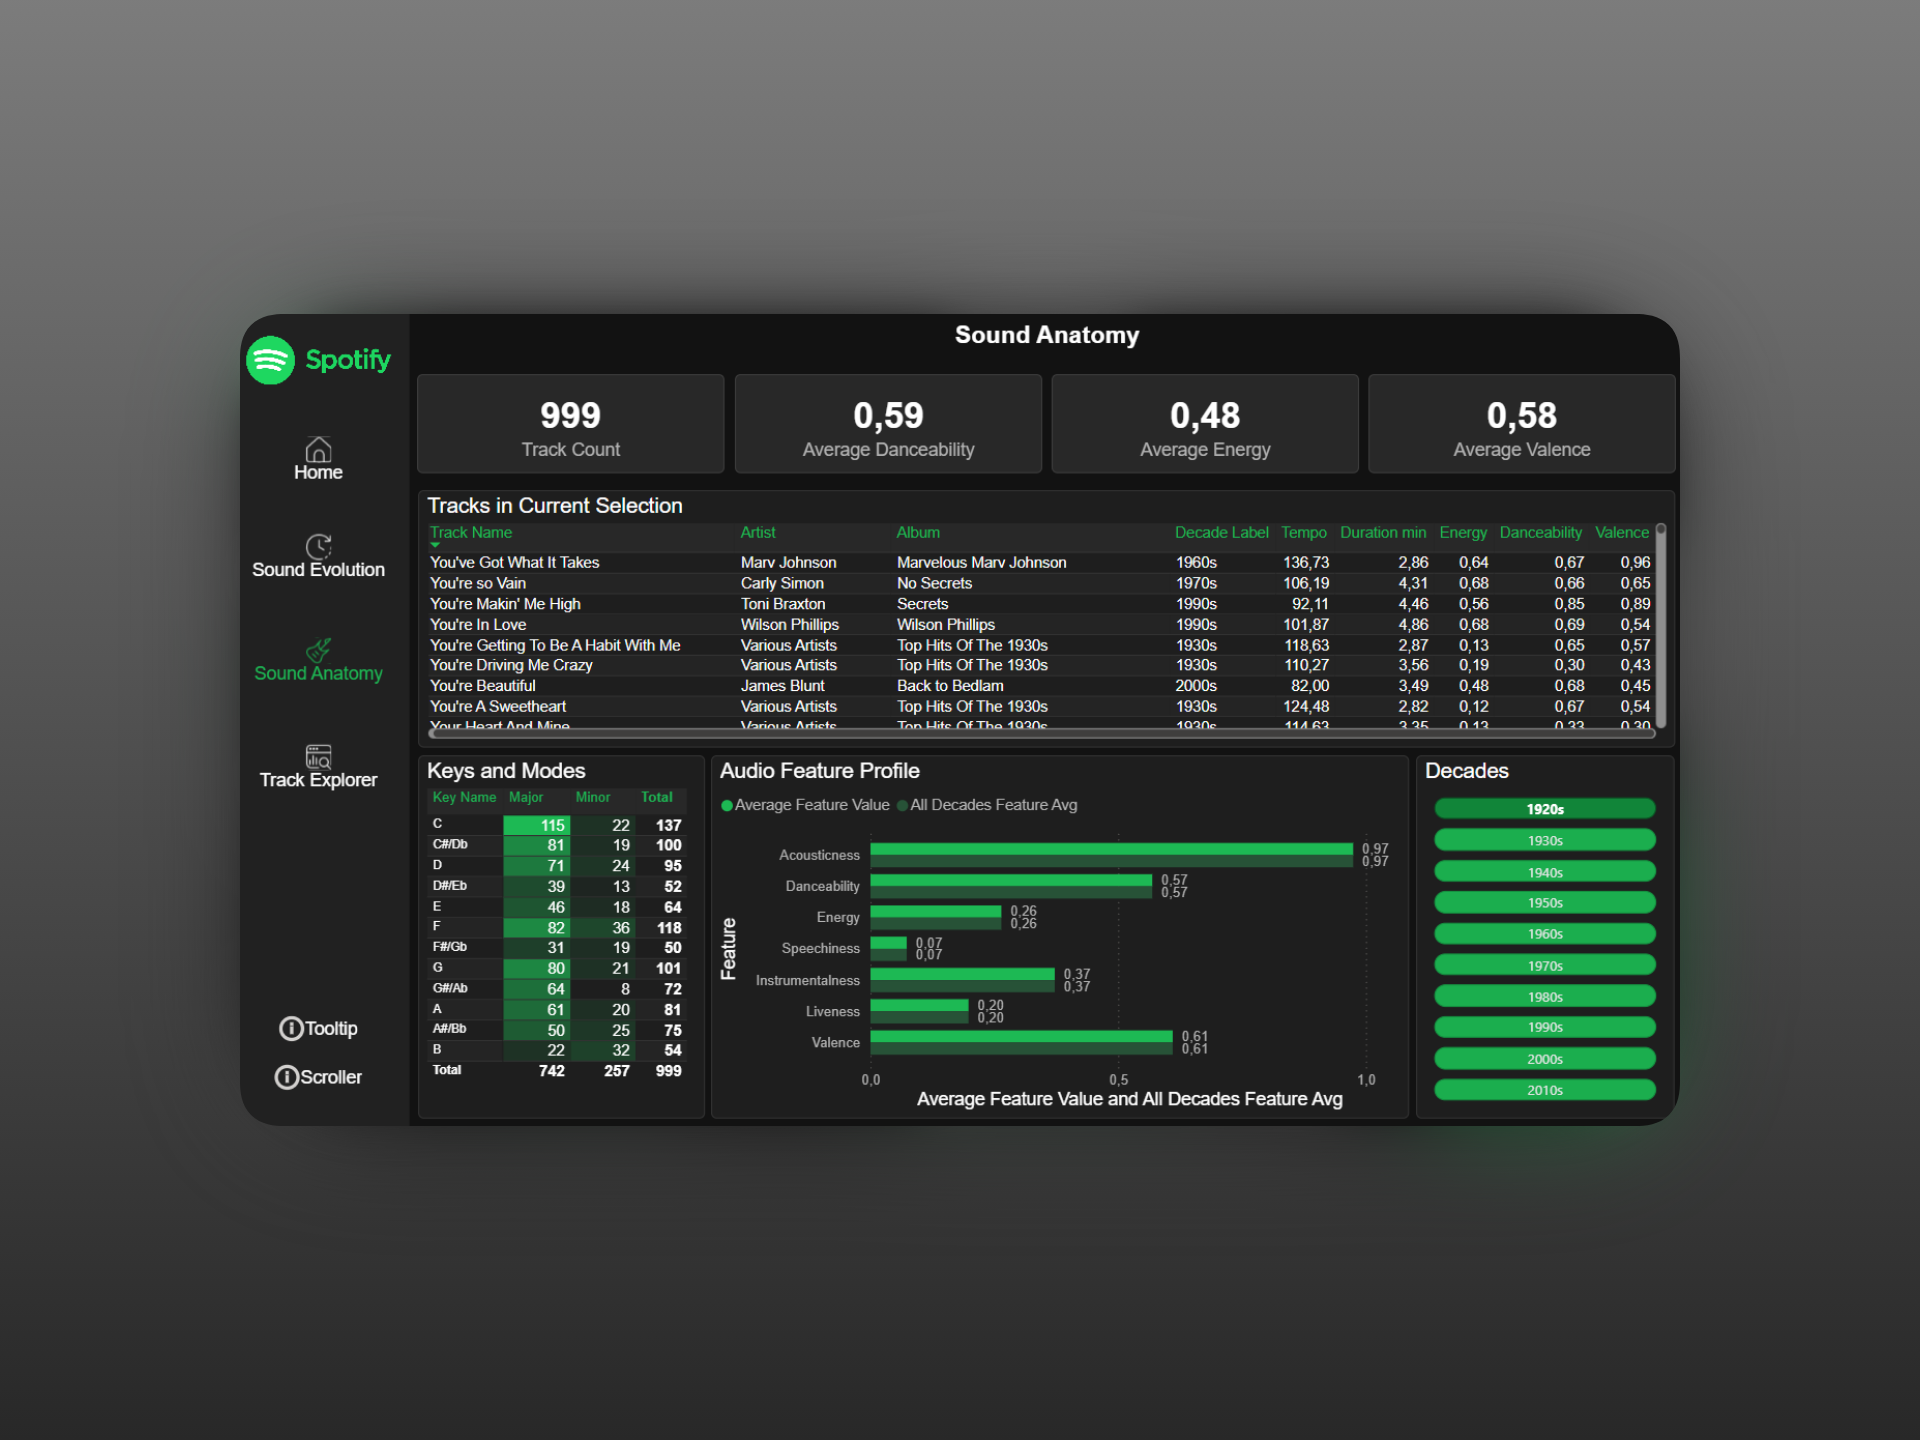

Layout of this report page (visuals, bound fields, positions):
{"tool":"powerbi","page":{"name":"Sound Anatomy","canvas":[1280,720],"ordinal":2},"visuals":[{"type":"card","fields":{"Values":["_Measures.Track Count"]},"box":[166.8,60.3,270.3,87.4],"z":0},{"type":"card","fields":{"Values":["_Measures.Average Energy"]},"box":[723.4,60.3,270.3,87.4],"z":1000},{"type":"card","fields":{"Values":["_Measures.Average Danceability"]},"box":[445.1,60.3,270.3,87.4],"z":2000},{"type":"card","fields":{"Values":["_Measures.Average Valence"]},"box":[1001.7,60.3,270.3,87.4],"z":3000},{"type":"shape","box":[0,0,159.7,720.4],"z":4000,"group":"g1"},{"type":"textbox","box":[159.7,9,1120.3,47.2],"z":4000},{"type":"actionButton","box":[0,109.5,159.7,53.2],"z":5000,"group":"g1"},{"type":"tableEx","title":"Tracks in Current Selection","fields":{"Values":["Songs.Track Name","Songs.Artist","Songs.Album","Songs.Decade Label","Songs.Tempo","Songs.Duration min","Songs.Energy","Songs.Danceability","Songs.Valence"]},"box":[166.8,161.6,1103.7,225.7],"z":5000},{"type":"actionButton","box":[0,194.9,159.7,53.2],"z":6000,"group":"g1"},{"type":"pivotTable","title":"Keys and Modes","fields":{"Rows":["Dim Key.Key Name"],"Columns":["Dim Mode.Mode Label"],"Values":["_Measures.Track Count"]},"box":[166.8,394.2,252,318.7],"z":6000},{"type":"actionButton","box":[0,285.3,159.7,53.2],"z":7000,"group":"g1"},{"type":"clusteredBarChart","title":"Audio Feature Profile","fields":{"Category":["Dim Feature.Feature"],"Y":["_Measures.Average Feature Value","_Measures.All Decades Feature Avg"]},"box":[425,394.2,612.9,318.7],"z":7000},{"type":"group","id":"g1","title":"Grupa 2","box":[0,0,159.7,720.4],"z":8000},{"type":"actionButton","box":[0,378.8,159.7,53.2],"z":8000,"group":"g1"},{"type":"chipSlicerPro","title":"Decades","fields":{"category":["Audio Feature Values.Decade Label"]},"box":[1044,394.2,226.5,318.7],"z":9000},{"type":"actionButton","box":[0,607.8,159.7,53.2],"z":9000,"group":"g1"},{"type":"actionButton","box":[0,651.1,159.7,53.2],"z":10000,"group":"g1"},{"type":"image","box":[0,0,159.7,95.4],"z":11000,"group":"g1"}]}

Visuals, with their boxes on the page's 1280x720 design canvas (x1, y1, x2, y2). These are canvas units, not pixel positions in the 1920x1440 screenshot, which may show the page scaled, cropped or inside an application window:
card - _Measures.Track Count: box(167, 60, 437, 148)
card - _Measures.Average Energy: box(723, 60, 994, 148)
card - _Measures.Average Danceability: box(445, 60, 715, 148)
card - _Measures.Average Valence: box(1002, 60, 1272, 148)
shape: box(0, 0, 160, 720)
textbox: box(160, 9, 1280, 56)
actionButton: box(0, 110, 160, 163)
"Tracks in Current Selection" tableEx: box(167, 162, 1270, 387)
actionButton: box(0, 195, 160, 248)
"Keys and Modes" pivotTable: box(167, 394, 419, 713)
actionButton: box(0, 285, 160, 338)
"Audio Feature Profile" clusteredBarChart: box(425, 394, 1038, 713)
"Grupa 2" group: box(0, 0, 160, 720)
actionButton: box(0, 379, 160, 432)
"Decades" chipSlicerPro: box(1044, 394, 1270, 713)
actionButton: box(0, 608, 160, 661)
actionButton: box(0, 651, 160, 704)
image: box(0, 0, 160, 95)
